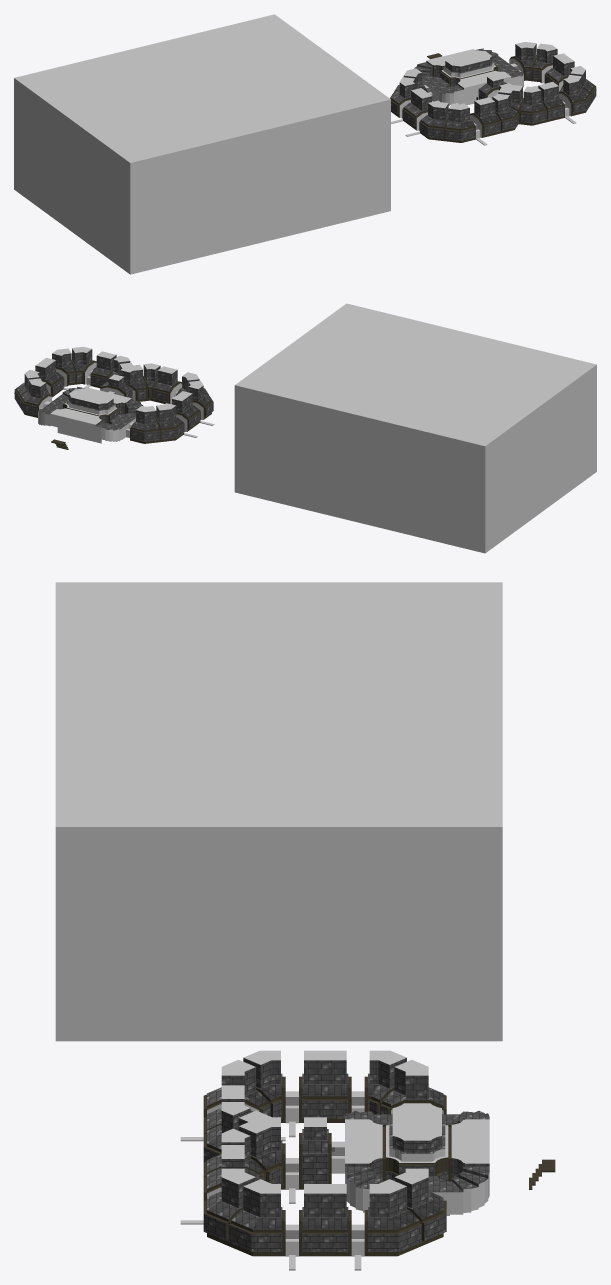
Rendered from Dragonfly_01_MAP01.obj.
3 views of the same model, one above another, from view 1: azimuth 30°, elevation 25°; view 2: azimuth 150°, elevation 25°; view 3: azimuth 270°, elevation 25° (orthographic). The views are drawn at different scales.
Parts seen in each view (by area): view 1: MAP01; view 2: MAP01; view 3: MAP01.
Part boxes in pixels (bbox=[...]): MAP01: bbox=[14, 14, 596, 274]; MAP01: bbox=[14, 303, 596, 553]; MAP01: bbox=[55, 582, 555, 1270].
Bounding box in the file's own units: 178 × 36 × 76.
